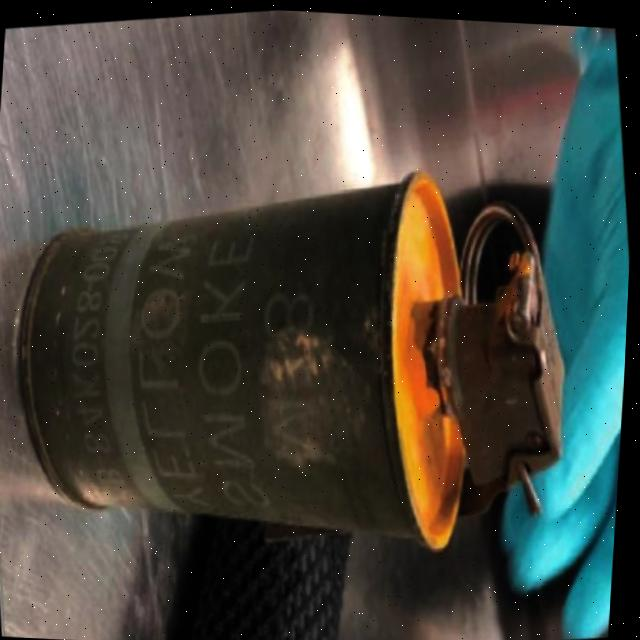grenade: (0, 115, 598, 639)
